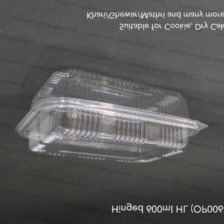plastic_box: (5, 59, 214, 174)
